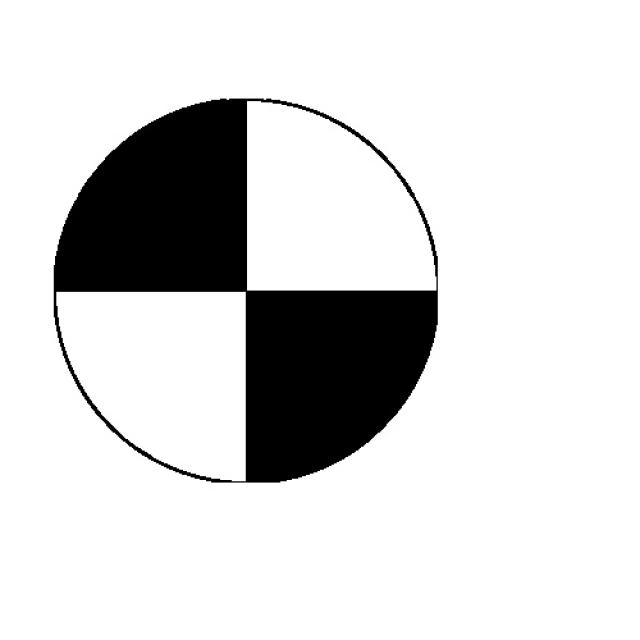Marcadores: (53, 97, 438, 484)
